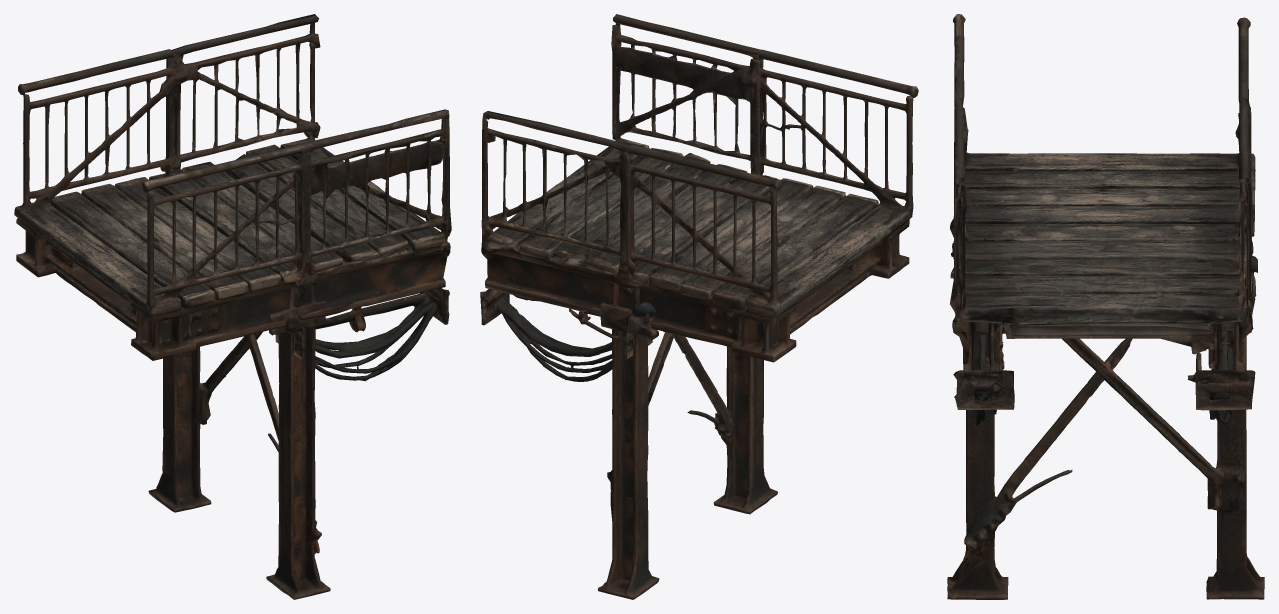
The model's file is market-bridge-kit.glb.
3 renders of one model, left to right at view 1: azimuth 30°, elevation 25°; view 2: azimuth 150°, elevation 25°; view 3: azimuth 270°, elevation 25°, orthographic. The views are drawn at different scales.
Parts seen in each view (by area): view 1: End, Mid, Trestle; view 2: End, Mid, Trestle; view 3: Mid, End, Trestle.
Part boxes in pixels (<box>): End: <box>14,49,303,360</box>; Mid: <box>169,14,451,381</box>; Trestle: <box>148,168,330,599</box>; End: <box>627,49,918,362</box>; Mid: <box>480,14,762,381</box>; Trestle: <box>598,179,777,599</box>; Mid: <box>950,97,1255,425</box>; End: <box>952,14,1255,249</box>; Trestle: <box>947,229,1264,599</box>.
Bounding box in the file's own units: 2.68 × 3.8 × 2.23.
1 material, 1 textured.
